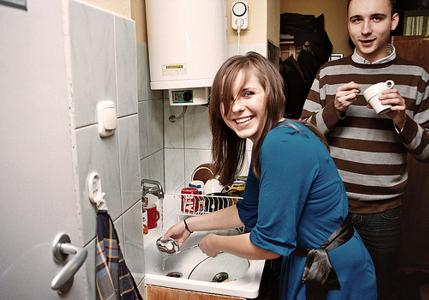person: (164, 51, 381, 298)
